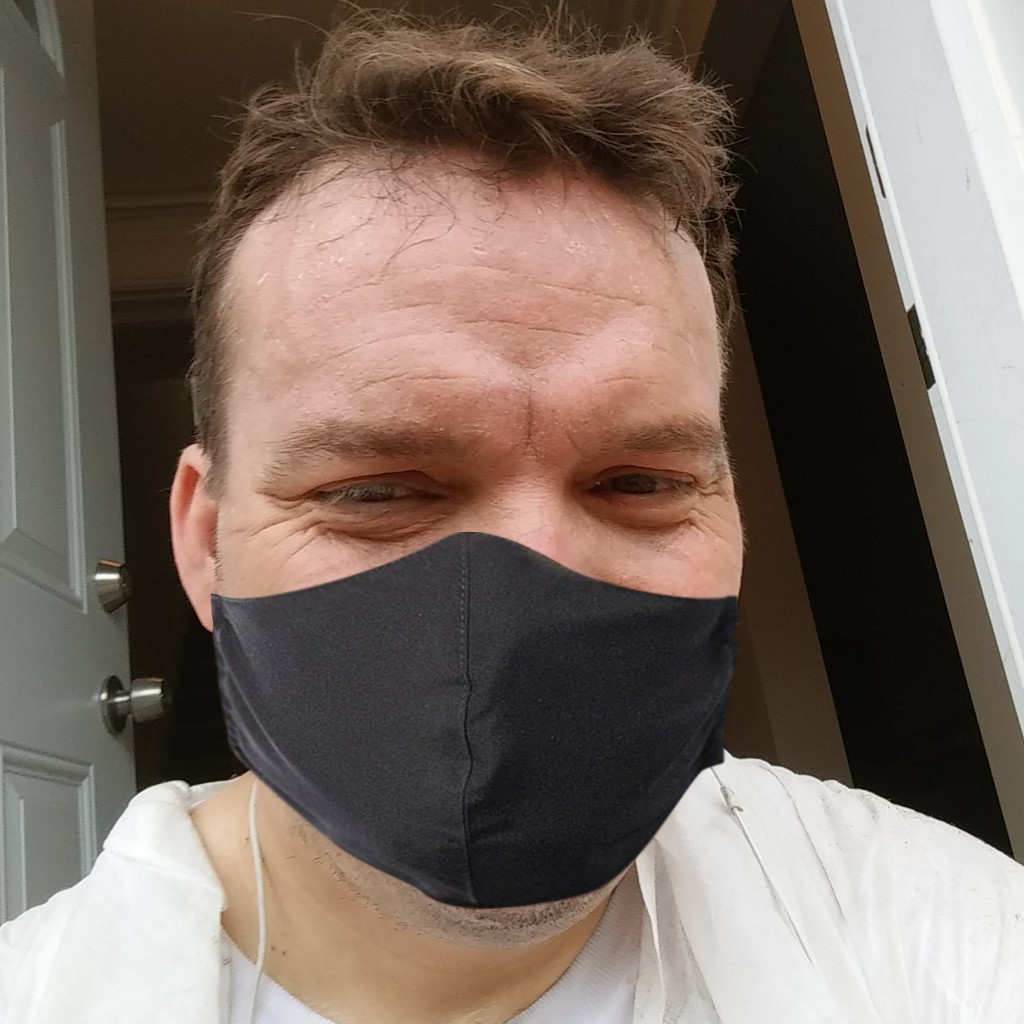con_mascara: (206, 144, 743, 883)
